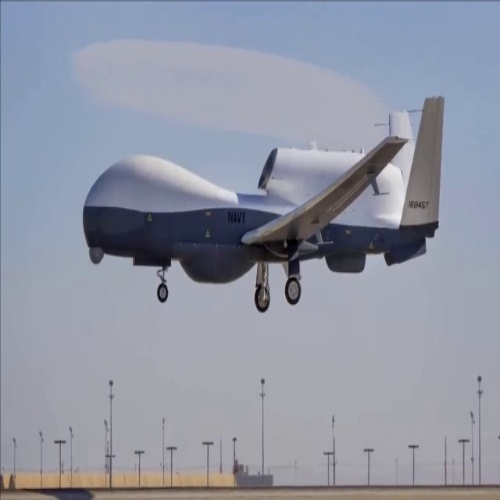uav: (78, 93, 442, 319)
